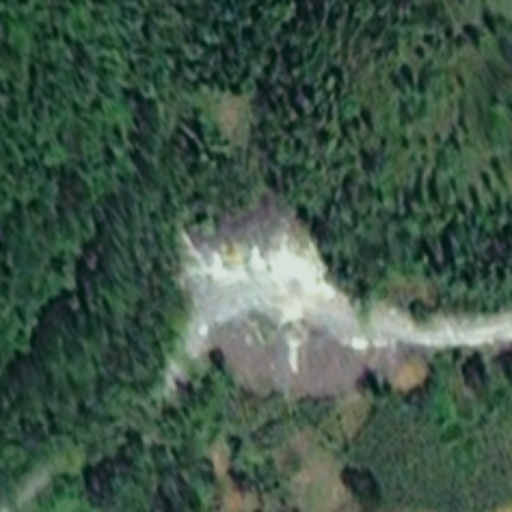landslide: (161, 197, 354, 374)
